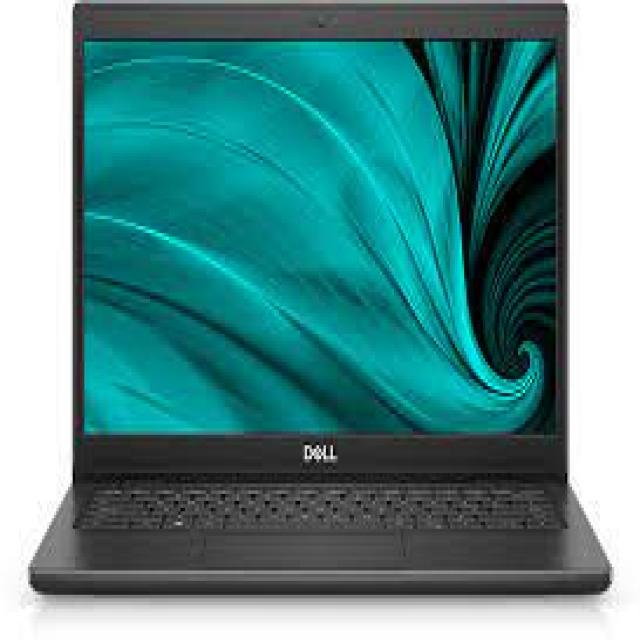others: (23, 3, 614, 602)
